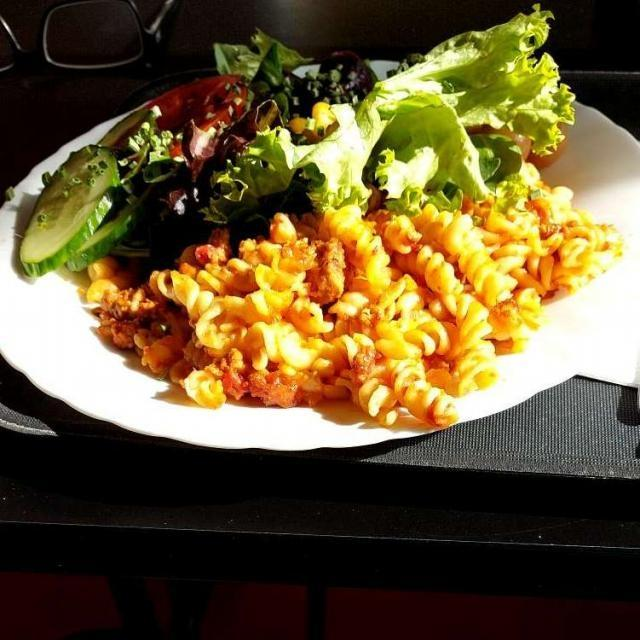bolognaise-sauce: (108, 242, 346, 377)
cucumber: (10, 151, 137, 274)
pasta: (86, 185, 615, 422)
salad: (116, 32, 575, 263)
sweet-corn-canned: (78, 100, 335, 305)
